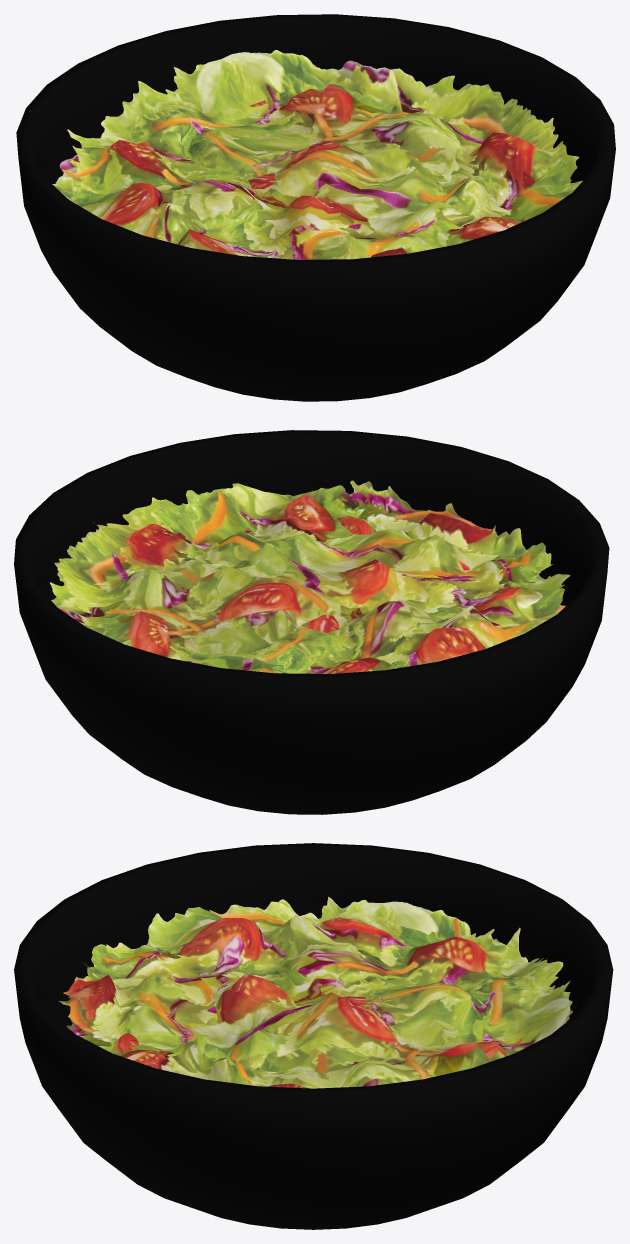
The model's file is vegetable_salad.fbx.
3 views of the same model, one above another, from view 1: azimuth 30°, elevation 25°; view 2: azimuth 150°, elevation 25°; view 3: azimuth 270°, elevation 25° (orthographic).
Visible parts, largest first — view 1: Bowl, vegetable_salad_texture_01, vegetable_salad_texture_02; view 2: Bowl, vegetable_salad_texture_01, vegetable_salad_texture_02; view 3: Bowl, vegetable_salad_texture_01, vegetable_salad_texture_02.
Part boxes in pixels (box(x1,y1,x2,y2)): Bowl: box(16, 14, 615, 401); vegetable_salad_texture_01: box(62, 50, 582, 259); vegetable_salad_texture_02: box(52, 100, 535, 249); Bowl: box(14, 430, 609, 814); vegetable_salad_texture_01: box(50, 480, 570, 673); vegetable_salad_texture_02: box(51, 516, 550, 632); Bowl: box(14, 843, 613, 1229); vegetable_salad_texture_01: box(59, 900, 570, 1088); vegetable_salad_texture_02: box(67, 897, 572, 1085).
Size of the model in its own units: 200 by 81.35 by 201.
2 materials, 1 textured.
